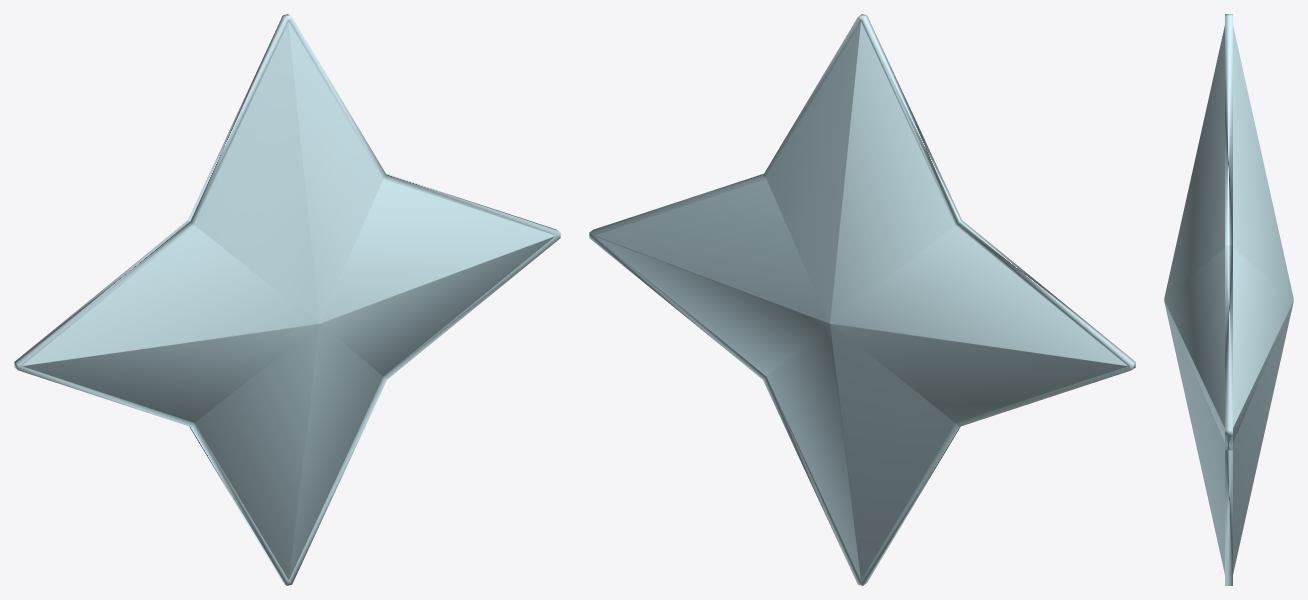
Rendered from star.glb.
3 views of the same model, side by side, from view 1: azimuth 30°, elevation 25°; view 2: azimuth 150°, elevation 25°; view 3: azimuth 270°, elevation 25° (orthographic).
Parts seen in each view (by area): view 1: Primogem_2; view 2: Primogem_2; view 3: Primogem_2.
Part boxes in pixels (bbox=[...]): Primogem_2: bbox=[14, 14, 560, 585]; Primogem_2: bbox=[589, 14, 1135, 585]; Primogem_2: bbox=[1164, 14, 1293, 585].
Bounding box in the file's own units: 4.05 × 4.05 × 0.8362.
